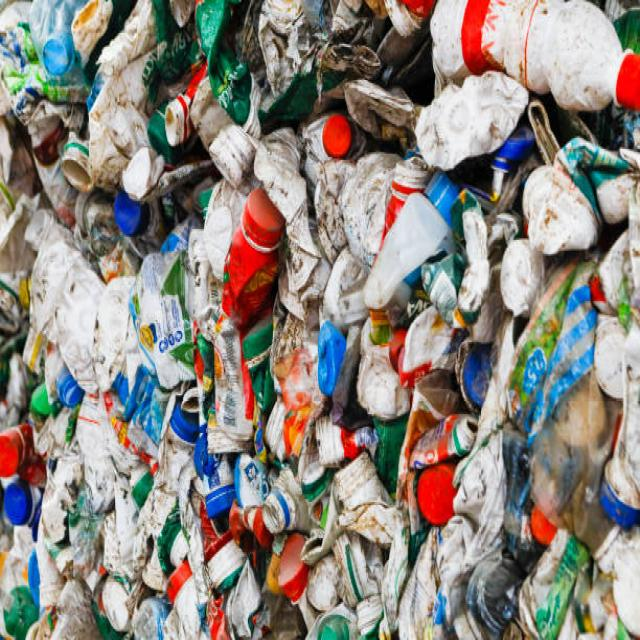plastic: (34, 36, 619, 596)
